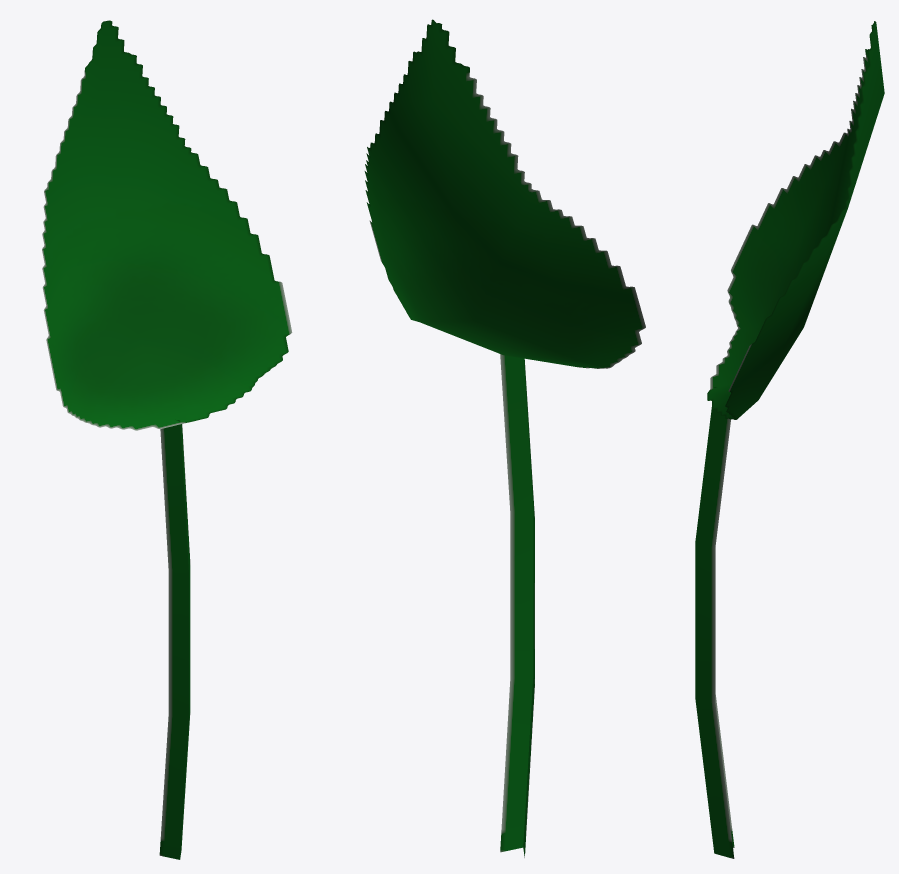
Rendered from water_arum_leaf.fbx.
The picture shows the model from 3 angles, left to right: view 1: azimuth 30°, elevation 25°; view 2: azimuth 150°, elevation 25°; view 3: azimuth 270°, elevation 25°; orthographic projection. The views are drawn at different scales.
Parts seen in each view (by area): view 1: water_arum_leaf; view 2: water_arum_leaf; view 3: water_arum_leaf.
Part boxes in pixels (x1,y1,x2,y2): water_arum_leaf: (42,20,292,859); water_arum_leaf: (364,19,645,857); water_arum_leaf: (695,21,884,858).
Bounding box in the file's own units: 56.83 × 180 × 36.79.
1 material, 1 textured.
